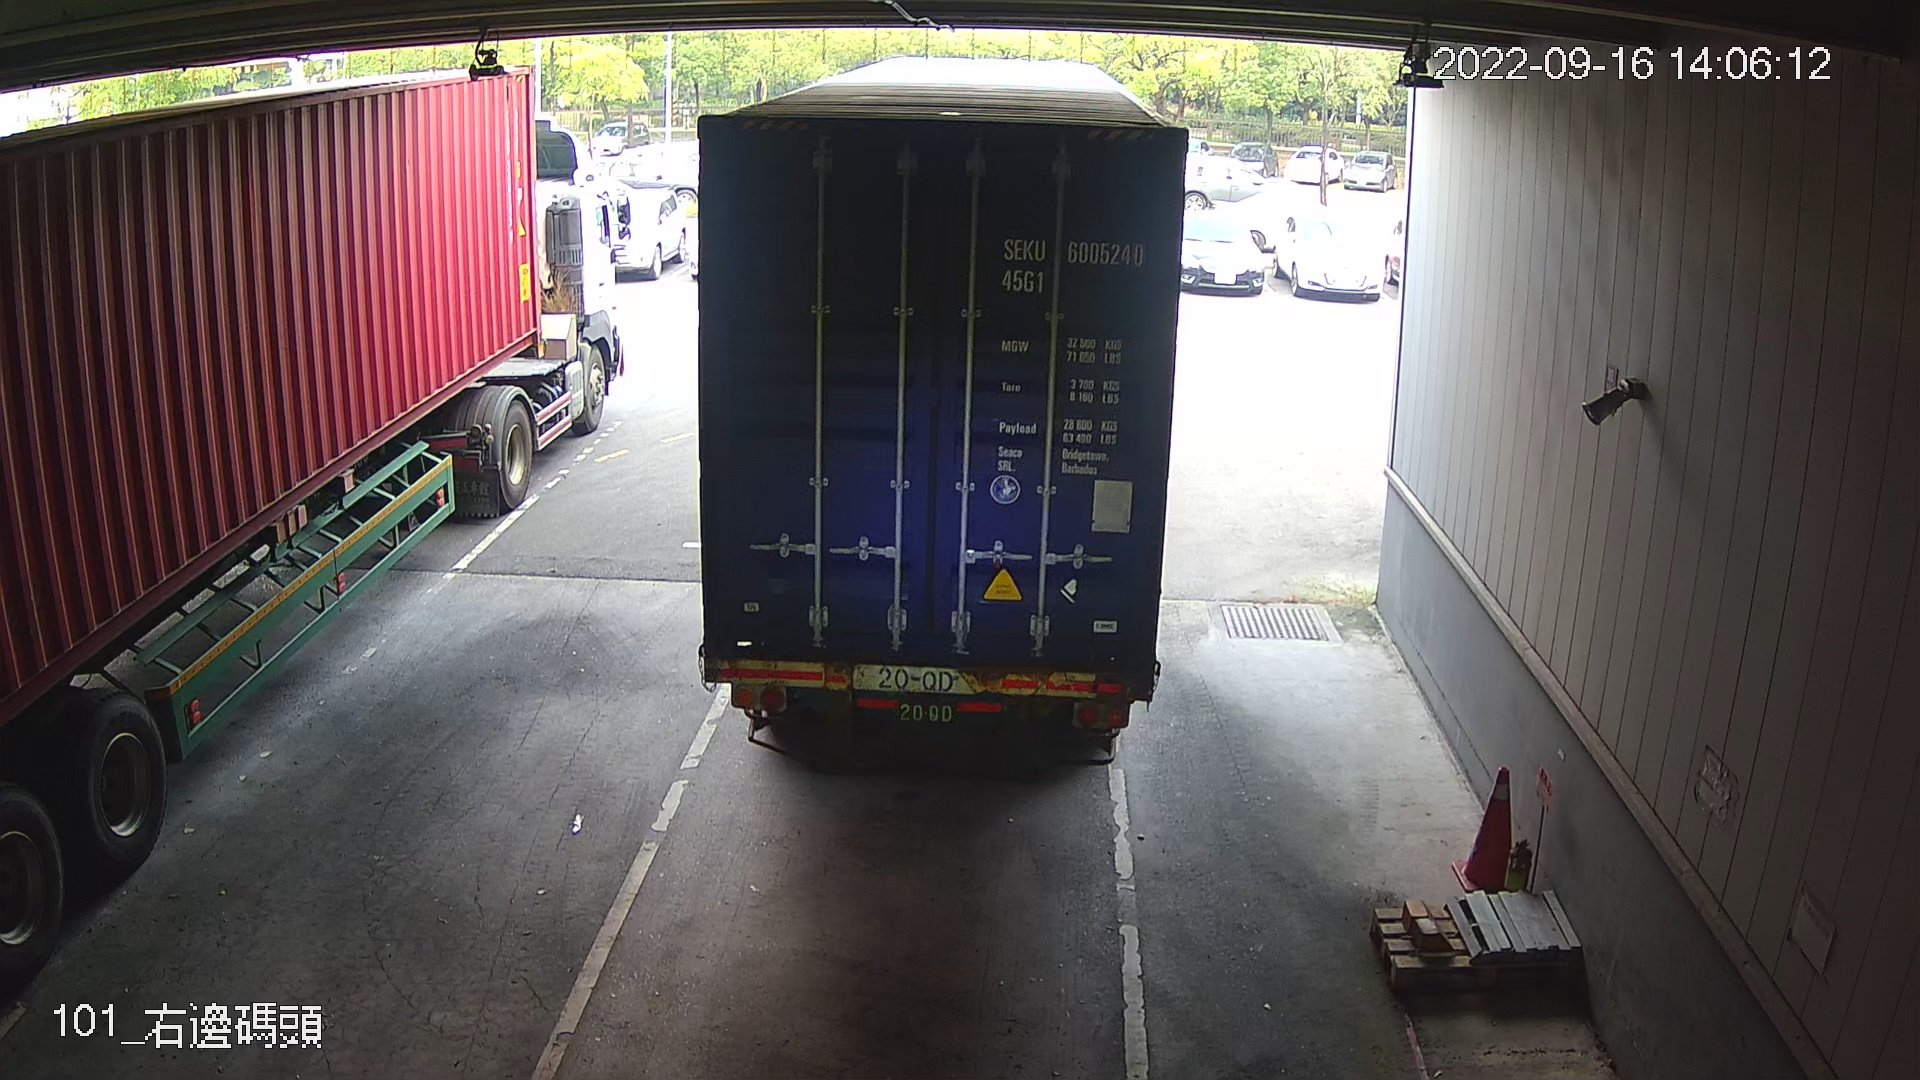container: (994, 227, 1151, 302)
